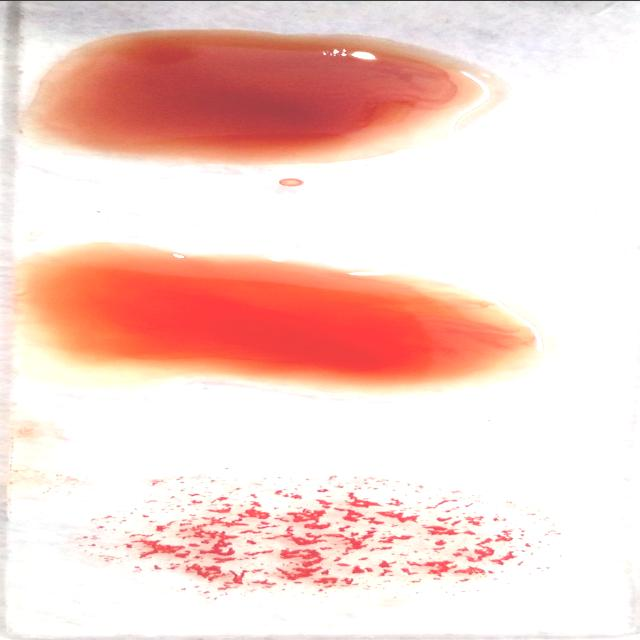D: (62, 486, 560, 594)
